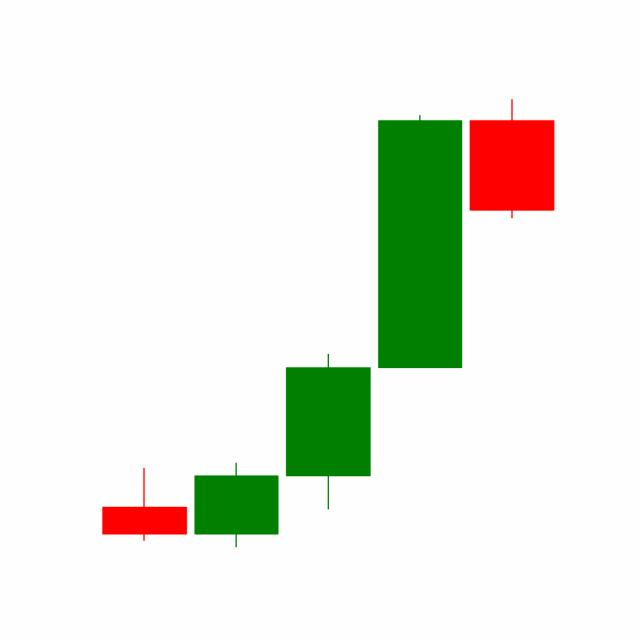Marubozu: (373, 112, 467, 371)
